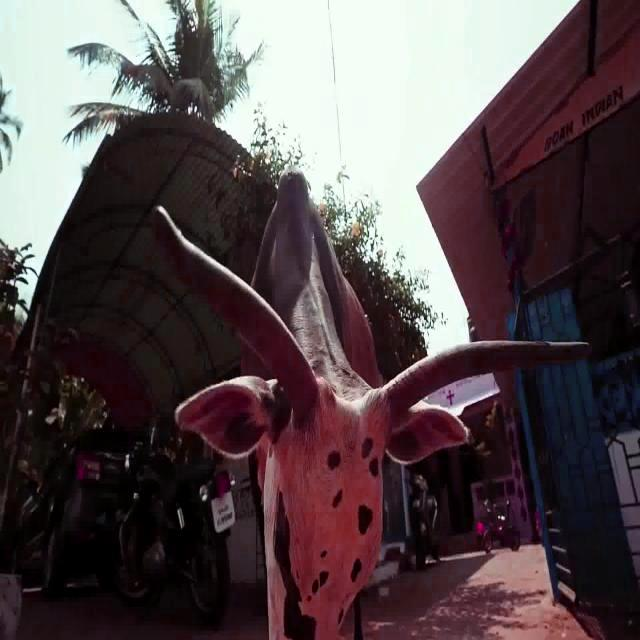COW: (152, 171, 589, 639)
